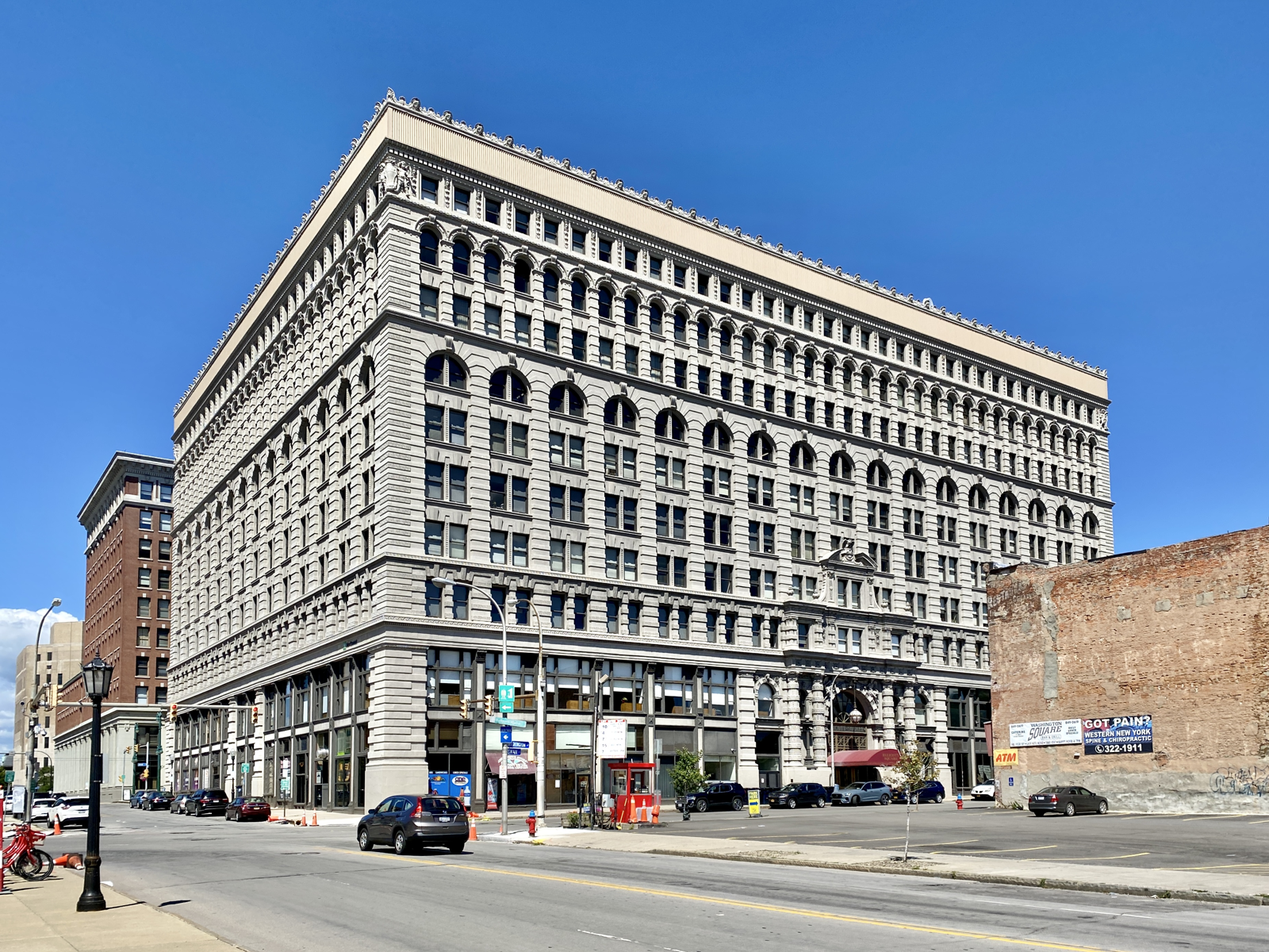fachada: (164, 85, 1124, 783), (997, 553, 1269, 812)
poste: (69, 656, 148, 933), (494, 579, 568, 833), (423, 561, 523, 748), (34, 563, 69, 801)
